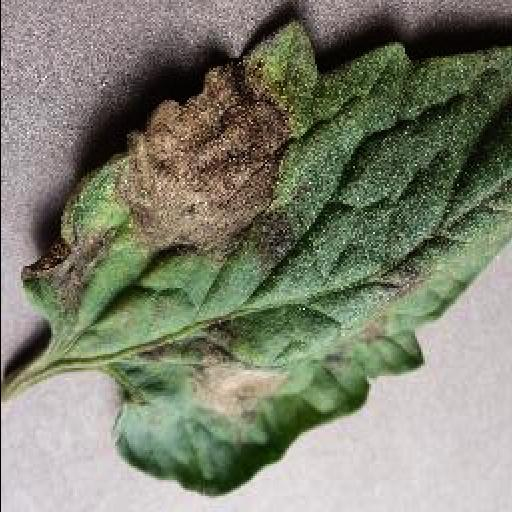disease_tomato: (22, 14, 512, 500)
